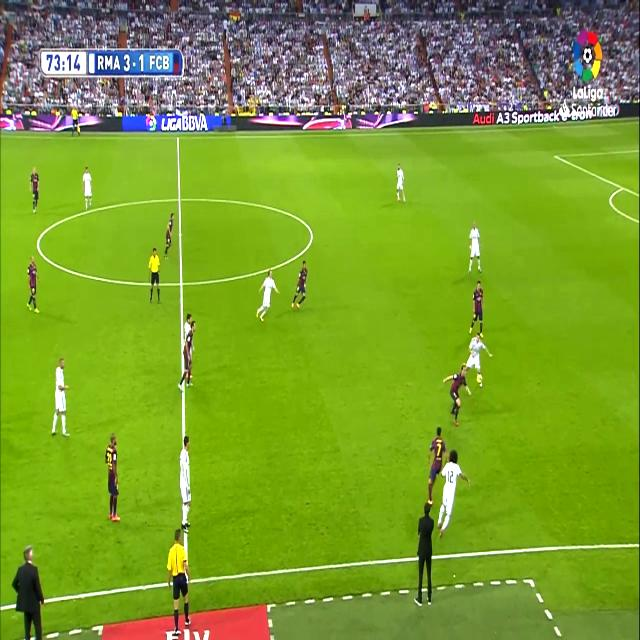halfcircle_bottom: (176, 270, 186, 295)
halfcircle_top: (175, 190, 184, 207)
midline_top_intersection: (174, 131, 182, 144)
top_arc_area_intersection: (618, 180, 626, 193)
